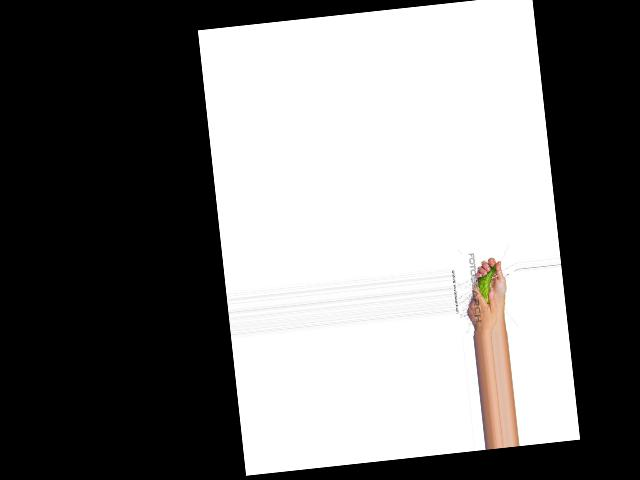cucumber: (475, 264, 499, 306)
